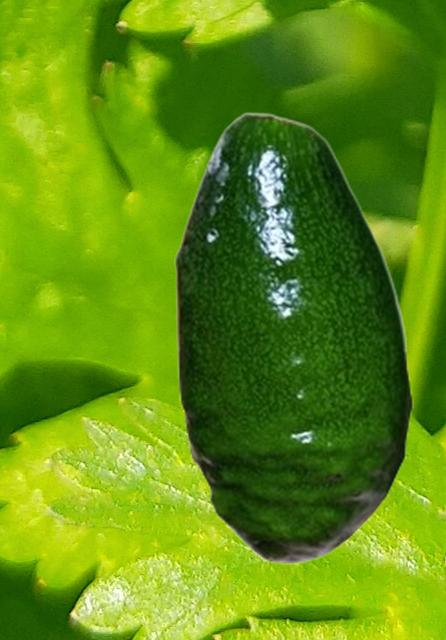avocado: (174, 111, 412, 563)
